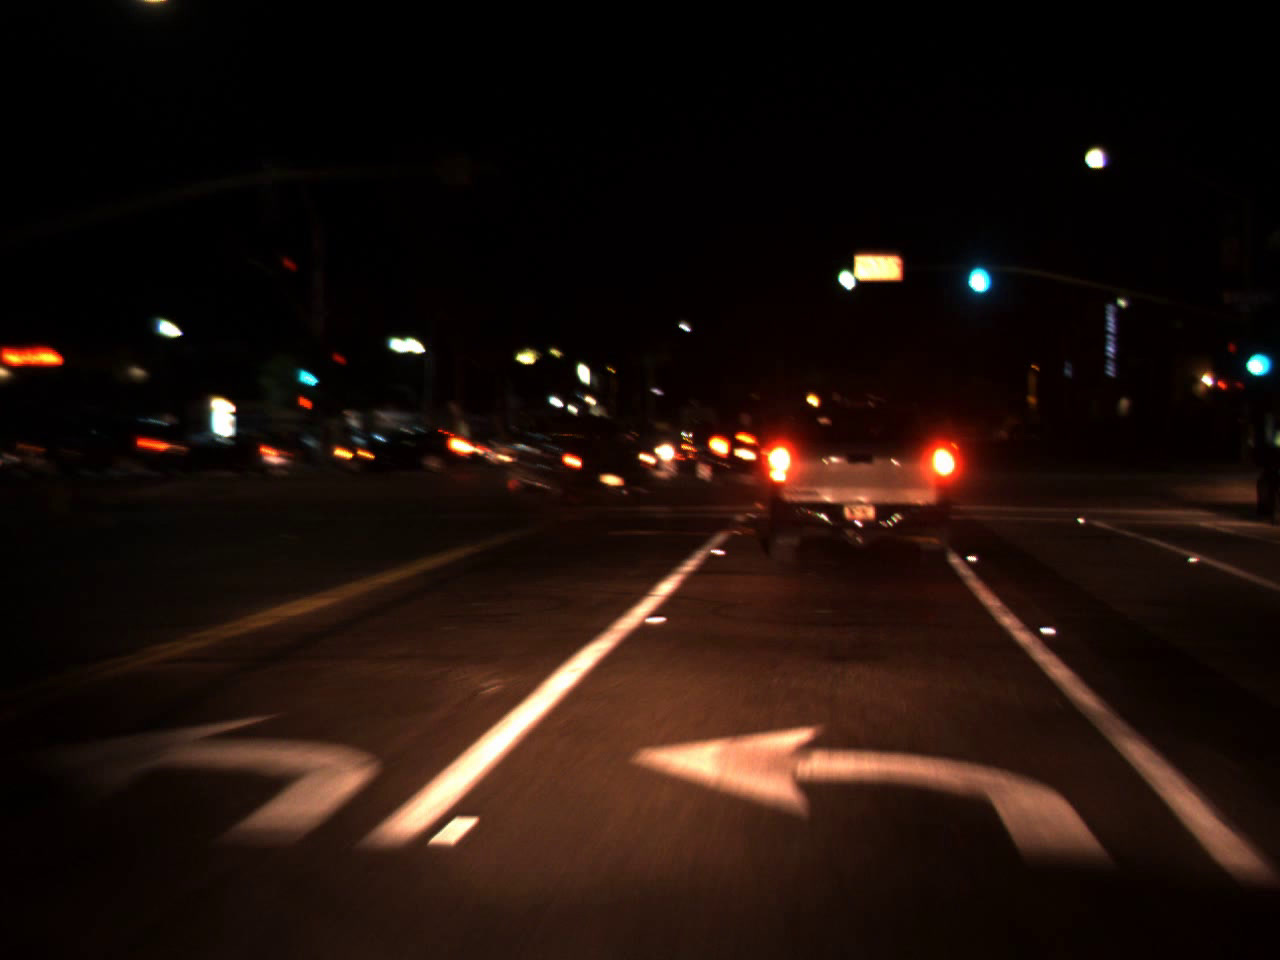go: (960, 236, 996, 302), (832, 246, 859, 297), (291, 352, 321, 391)
